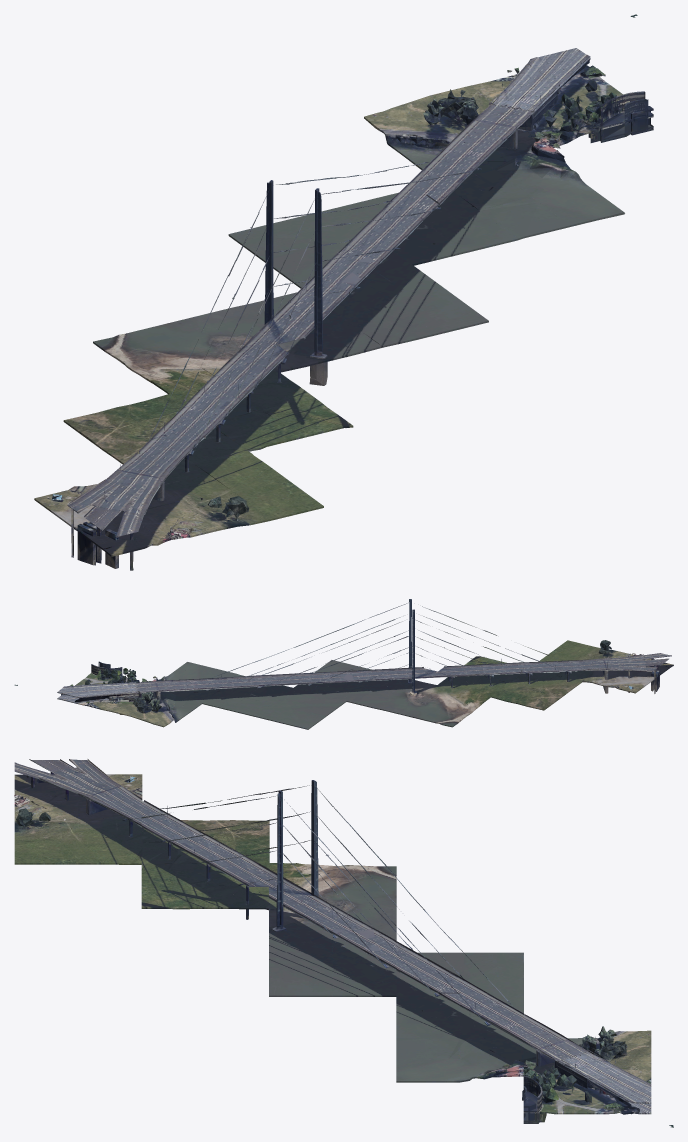
The model's file is bridge1.gltf.
The picture shows the model from 3 angles, top to bottom: view 1: azimuth 30°, elevation 25°; view 2: azimuth 150°, elevation 25°; view 3: azimuth 270°, elevation 25°; orthographic projection. The views are drawn at different scales.
Visible parts, largest first — view 1: BuildingMesh-00093, BuildingMesh-00136, BuildingMesh-00122, BuildingMesh-00114, BuildingMesh-00145, BuildingMesh-00080, BuildingMesh-00099, BuildingMesh-00131, BuildingMesh-00124, BuildingMesh-00116, BuildingMesh-00134, BuildingMesh-00138 (+1 smaller); view 2: BuildingMesh-00116, BuildingMesh-00124, BuildingMesh-00093, BuildingMesh-00145, BuildingMesh-00131, BuildingMesh-00138, BuildingMesh-00136, BuildingMesh-00134, BuildingMesh-00099, BuildingMesh-00114, BuildingMesh-00080, BuildingMesh-00122 (+3 smaller); view 3: BuildingMesh-00114, BuildingMesh-00080, BuildingMesh-00136, BuildingMesh-00099, BuildingMesh-00122, BuildingMesh-00093, BuildingMesh-00131, BuildingMesh-00124, BuildingMesh-00116, BuildingMesh-00138, BuildingMesh-00145, BuildingMesh-00134 (+1 smaller).
Boxes of the visible parts, x1,y1,x2,y2 form: BuildingMesh-00093: (34, 452, 217, 570); BuildingMesh-00136: (471, 48, 653, 147); BuildingMesh-00122: (441, 137, 624, 240); BuildingMesh-00114: (322, 235, 488, 347); BuildingMesh-00145: (364, 85, 546, 175); BuildingMesh-00080: (141, 435, 323, 530); BuildingMesh-00099: (170, 344, 346, 451); BuildingMesh-00131: (335, 152, 517, 265); BuildingMesh-00124: (200, 275, 382, 385); BuildingMesh-00116: (63, 391, 245, 467); BuildingMesh-00134: (93, 315, 275, 394); BuildingMesh-00138: (228, 208, 410, 288); BuildingMesh-00116: (491, 661, 582, 710); BuildingMesh-00124: (346, 666, 437, 714); BuildingMesh-00093: (582, 652, 673, 693); BuildingMesh-00145: (110, 680, 201, 727); BuildingMesh-00131: (202, 673, 292, 716); BuildingMesh-00138: (255, 673, 346, 729); BuildingMesh-00136: (57, 661, 147, 714); BuildingMesh-00134: (399, 672, 490, 727); BuildingMesh-00099: (438, 656, 521, 696); BuildingMesh-00114: (294, 660, 372, 700); BuildingMesh-00080: (540, 640, 620, 680); BuildingMesh-00122: (152, 662, 239, 702); BuildingMesh-00114: (269, 926, 396, 996); BuildingMesh-00080: (14, 800, 142, 864); BuildingMesh-00136: (522, 1058, 651, 1123); BuildingMesh-00099: (141, 840, 269, 919); BuildingMesh-00122: (396, 1011, 523, 1082); BuildingMesh-00093: (14, 759, 142, 818); BuildingMesh-00131: (396, 970, 523, 1038); BuildingMesh-00124: (269, 884, 396, 952); BuildingMesh-00116: (141, 800, 269, 864); BuildingMesh-00138: (396, 941, 523, 995); BuildingMesh-00145: (523, 1014, 651, 1074); BuildingMesh-00134: (269, 863, 396, 909).
Size of the model in its own units: 13.47 by 2.69 by 10.04.
